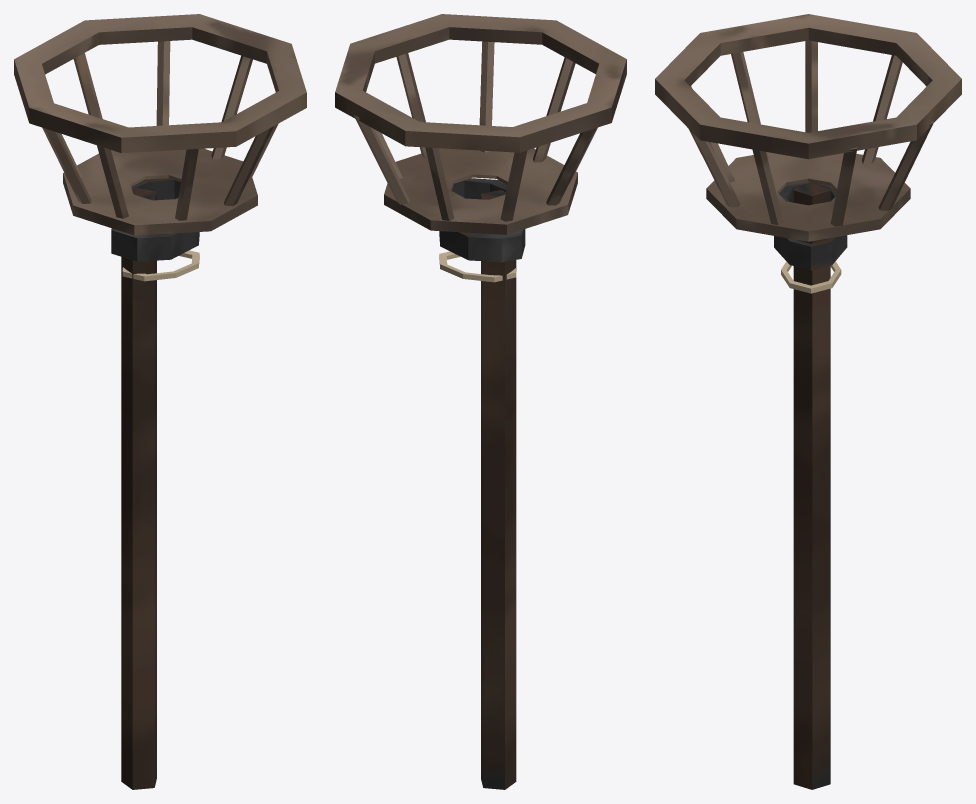
File: M_hune_2.fbx
3 views of the same model, side by side, from view 1: azimuth 30°, elevation 25°; view 2: azimuth 150°, elevation 25°; view 3: azimuth 270°, elevation 25° (orthographic).
Visible parts, largest first — view 1: polySurface280; view 2: polySurface280; view 3: polySurface280.
Part boxes in pixels (x1,y1,x2,y2): polySurface280: (14,14,306,789); polySurface280: (335,14,626,789); polySurface280: (655,14,961,789).
Bounding box in the file's own units: 208 × 533 × 208.
Materials: 1 (1 with a texture image).
